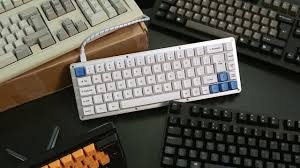keyboard: (57, 30, 256, 128)
